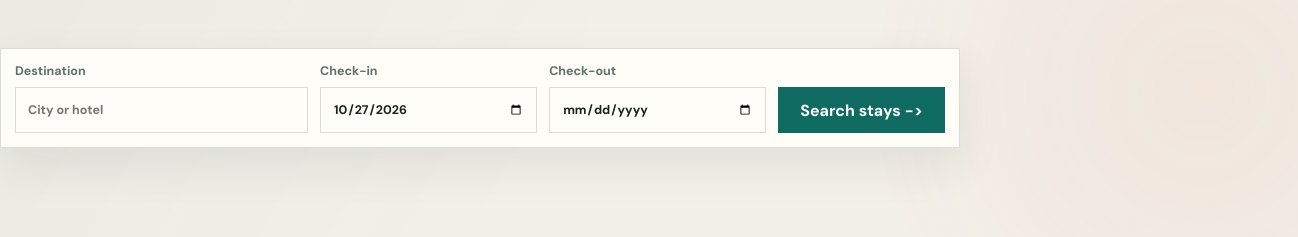
Scenario: SearchForm › rejects past check-in and check-out not after check-in
Type "Hotel Gamma" into the dropdown at [162, 110], box [15, 87, 308, 133]
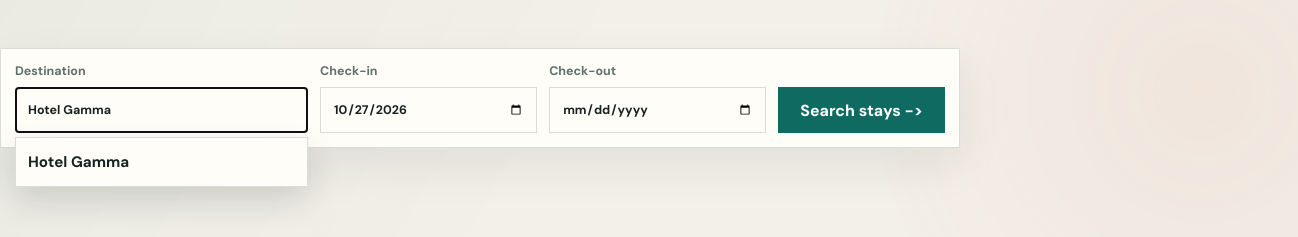
Type "2026-10-01" into the date field labelled "Check-in" at [429, 110], box [320, 87, 537, 133]
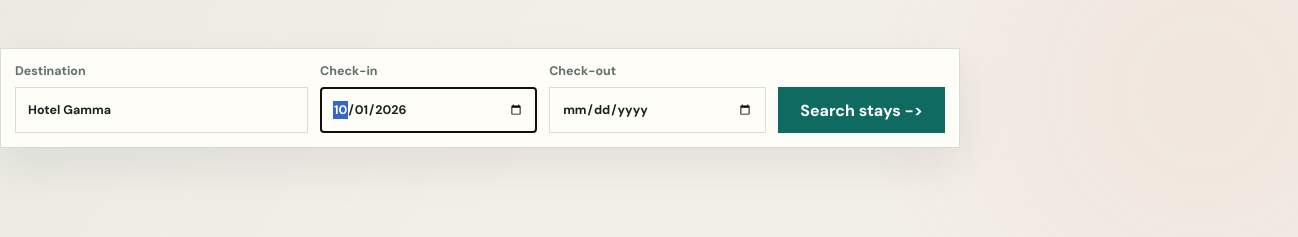
Type "2026-10-01" into the date field labelled "Check-out" at [658, 110], box [549, 87, 766, 133]
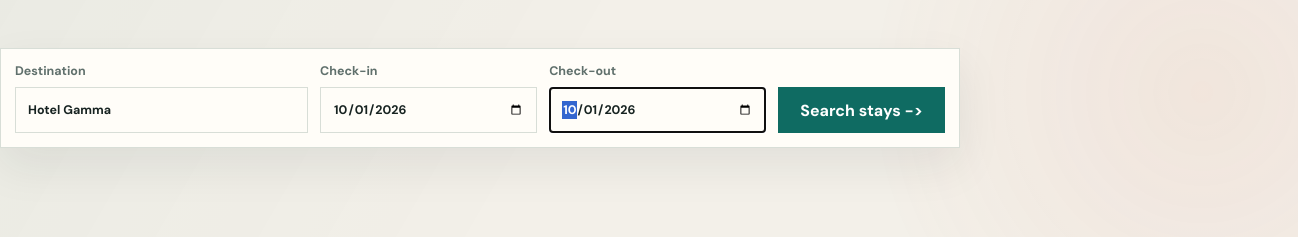
Click the button "Search stays ->" at [862, 110], box [778, 87, 945, 133]
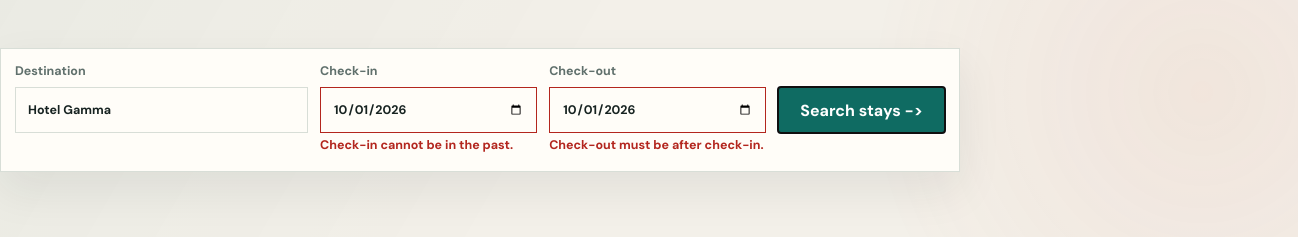
Check: the text "Check-in cannot be in the past." is shown, box [320, 137, 513, 153]
Check: the text "Check-out must be after check-in." is shown, box [549, 137, 764, 153]
